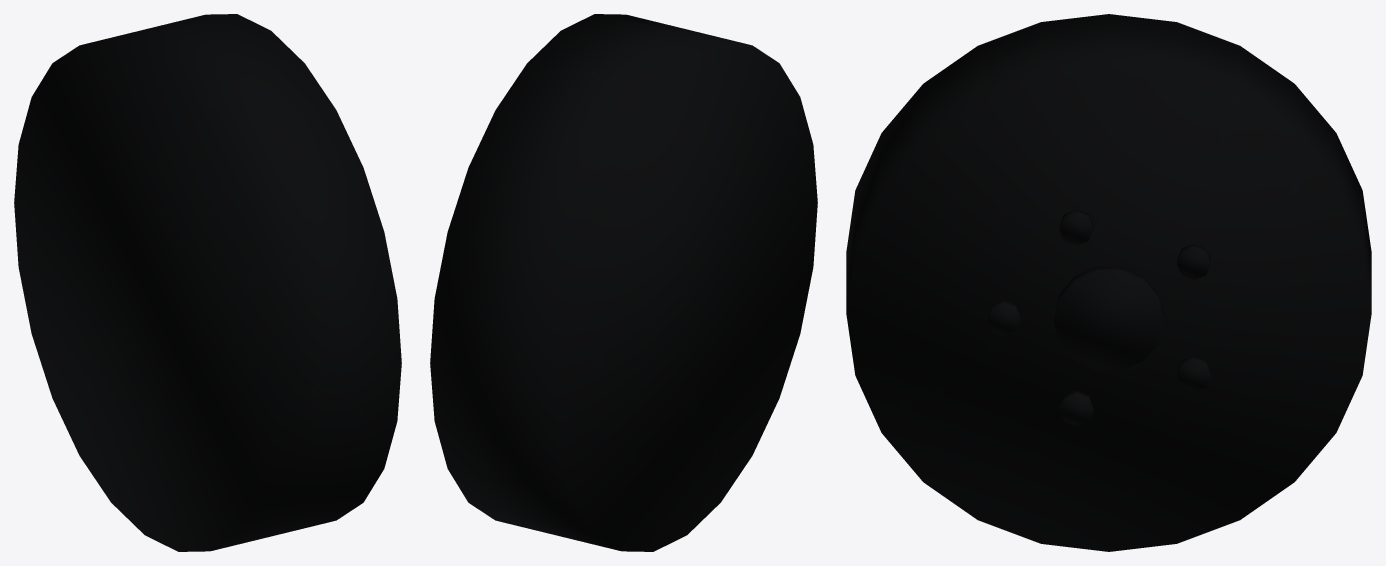
3 views of the same model, side by side, from view 1: azimuth 30°, elevation 25°; view 2: azimuth 150°, elevation 25°; view 3: azimuth 270°, elevation 25° (orthographic).
Size of the model in its own units: 0.271 by 0.86 by 0.86.
Materials: 1 (1 with a texture image).
